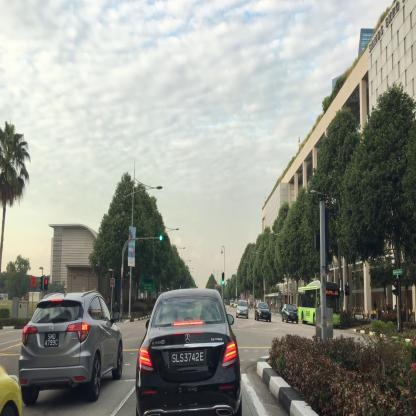green_traffic_light: (160, 235, 167, 240), (222, 273, 224, 284)
